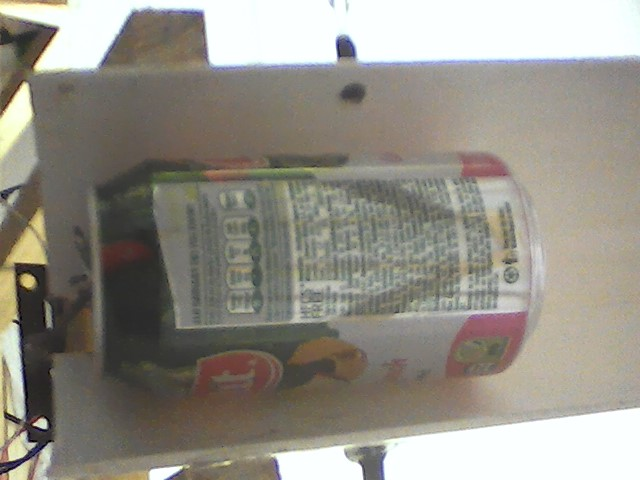lata: (82, 147, 553, 405)
